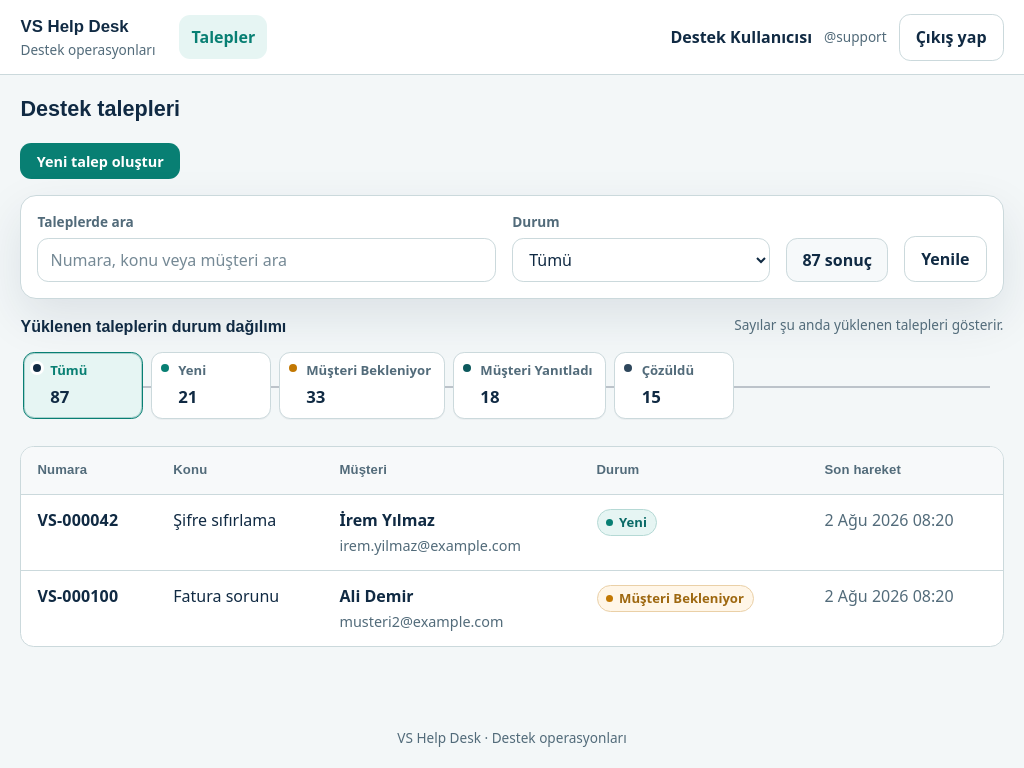
Scenario: TicketListPage › explains loaded counts and clears search and status together
This screenshot has width=1024, height=768.
Check: the heading "Yüklenen taleplerin durum dağılımı" is shown, box [20,316,286,336]
Check: the text "Sayılar şu anda yüklenen talepleri gösterir." is shown, box [734,315,1004,336]
Type "eşleşmez" into the search field labelled "Taleplerde ara" at (267, 260), box [38,238,496,282]
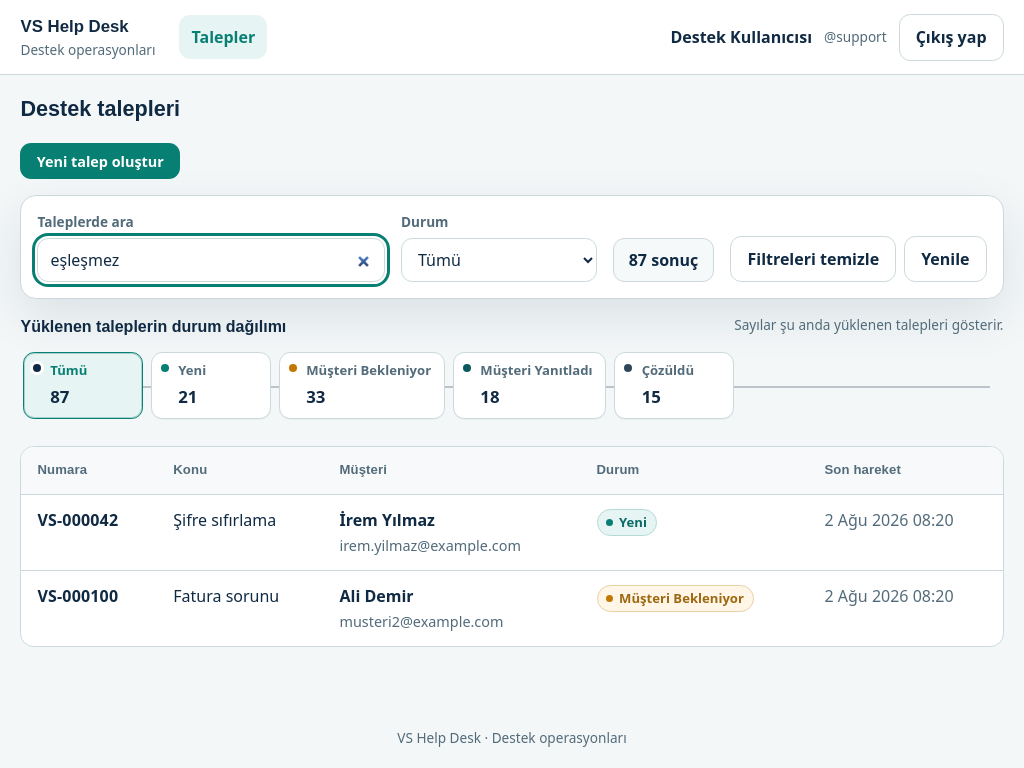
Select "Çözüldü" in the dropdown labelled "Durum" at (499, 260), box [401,238,596,282]
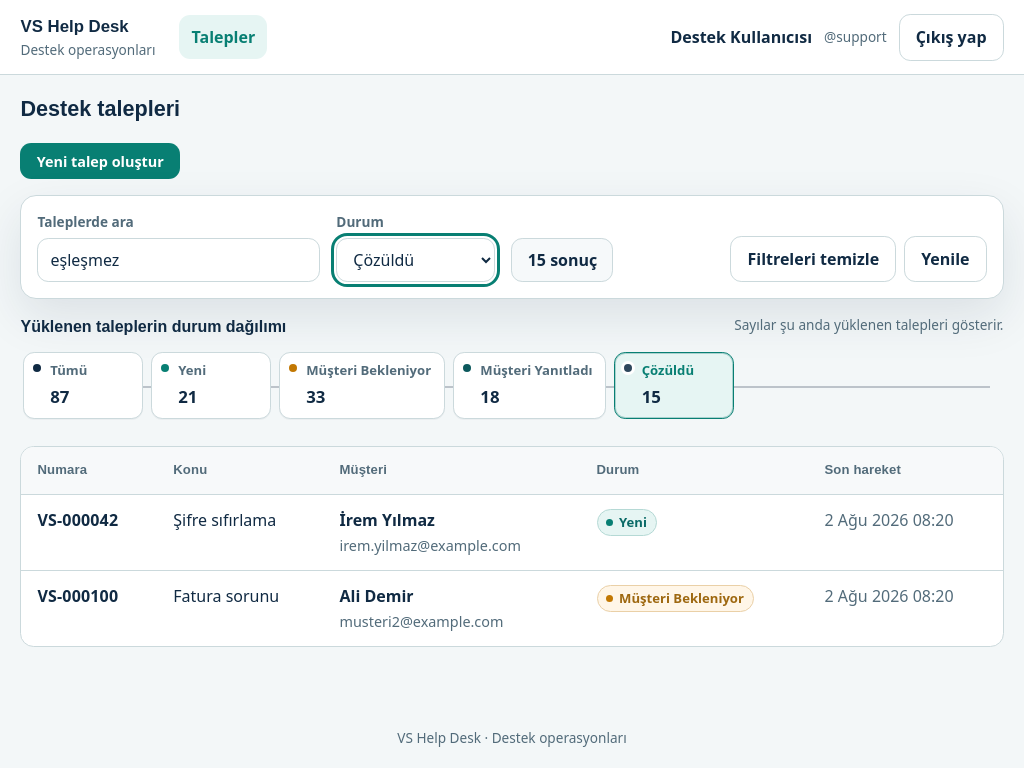
Click the button "Filtreleri temizle" at (813, 259), box [730,236,896,282]
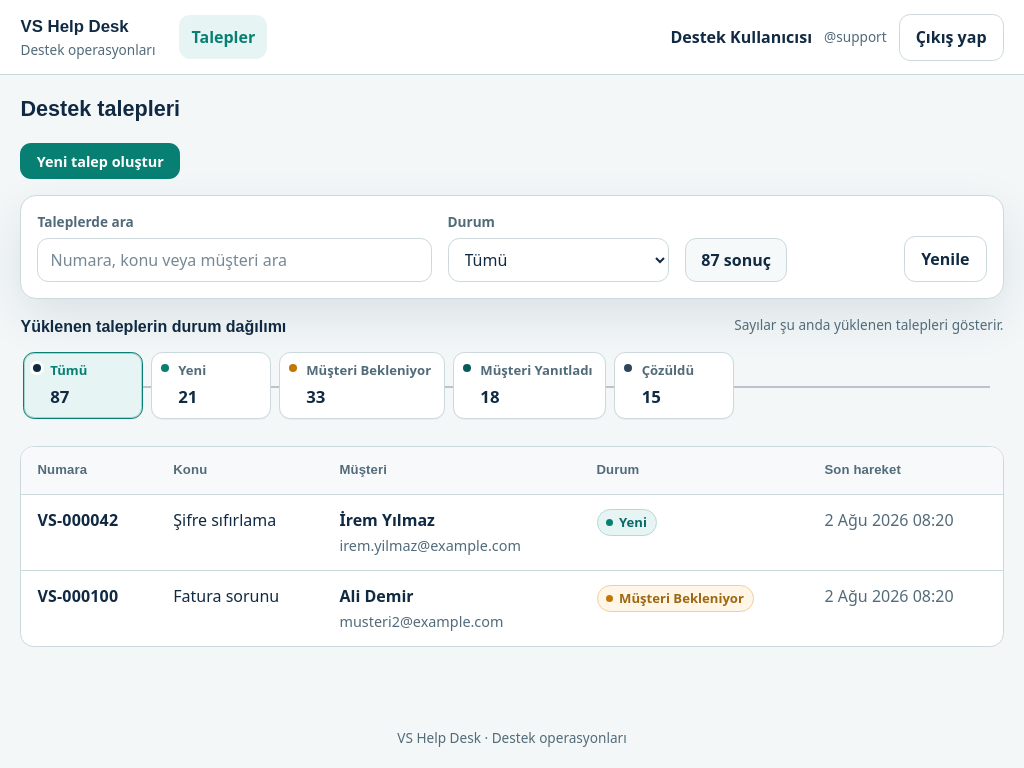
Check: the table is shown, box [22,447,1003,646]
Check: the search field labelled "Taleplerde ara" is empty, box [38,238,432,282]
Check: the button "Filtreleri temizle" is gone
